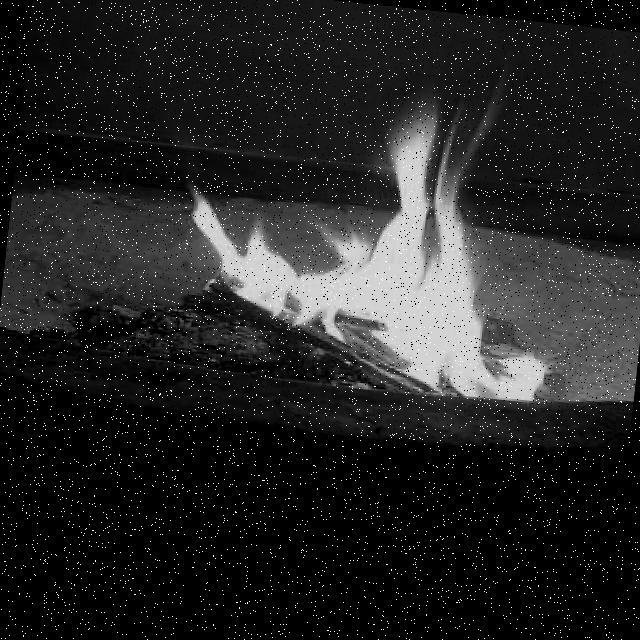Fire: (154, 33, 589, 411)
